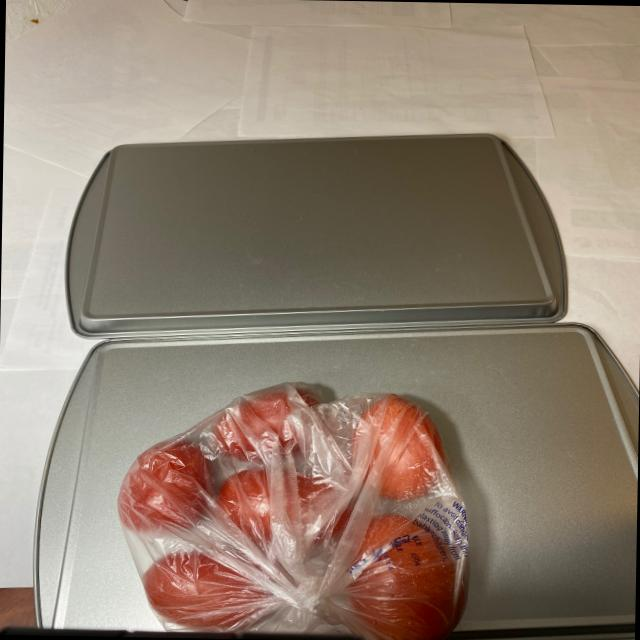tomato: (110, 388, 468, 638)
